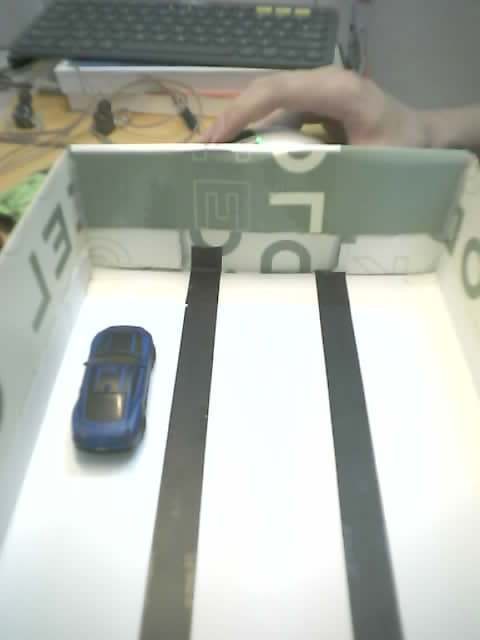vehicle: (71, 325, 156, 472)
